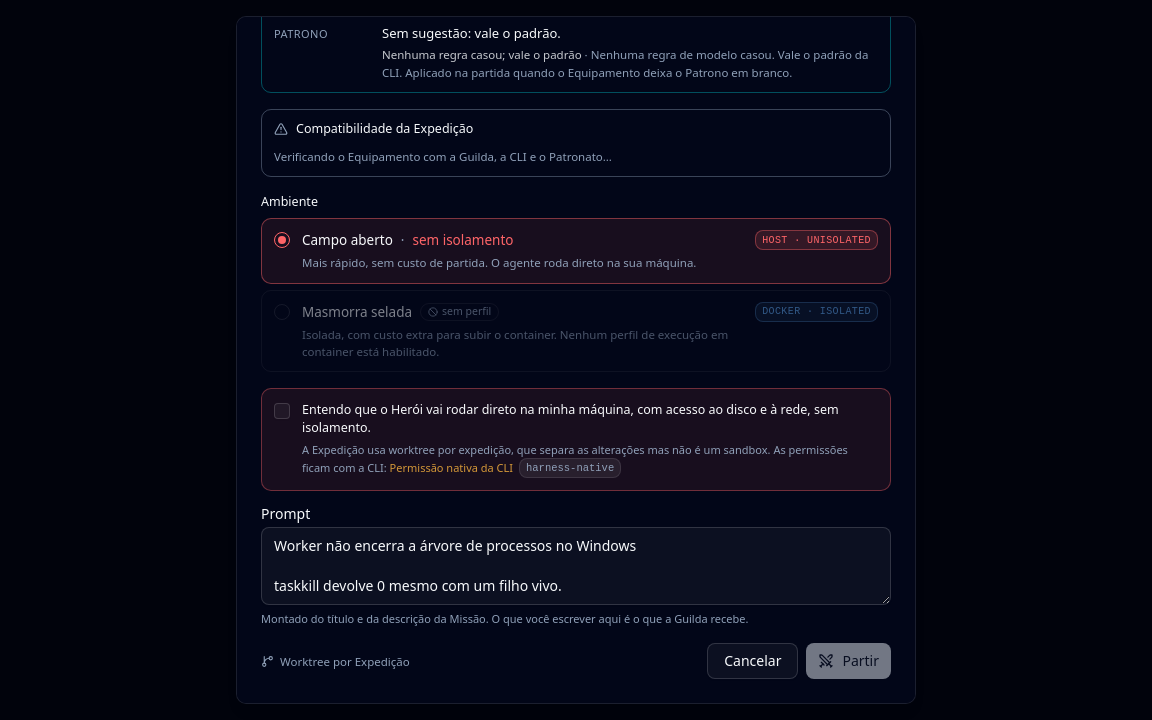
as recusas da autonomia na Nova Expedição › BUDGET_EXCEEDED mostra o Tesouro, o teto e o consumo
The image size is (1152, 720).
(page scrolled)
Click the checkbox named "Aceito executar sem isolamento": (282,411) [274,403,290,419]
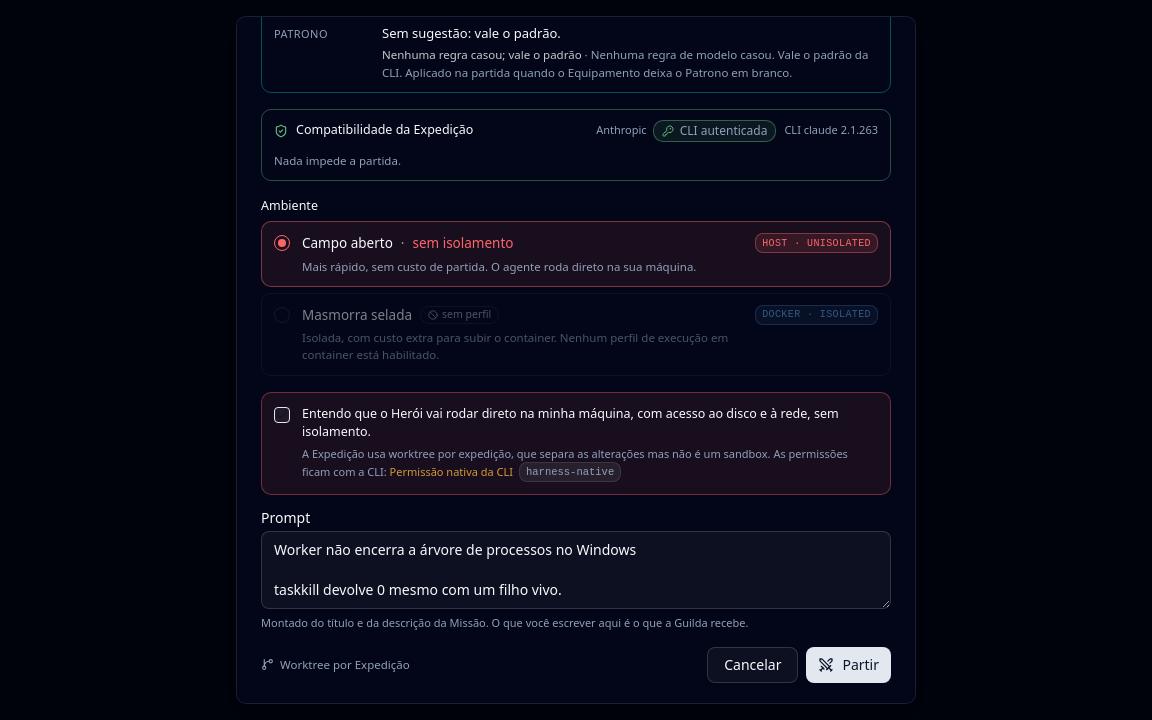
Check: the button "Partir" is enabled
Click the button "Partir": (849,664) [806,646,891,682]
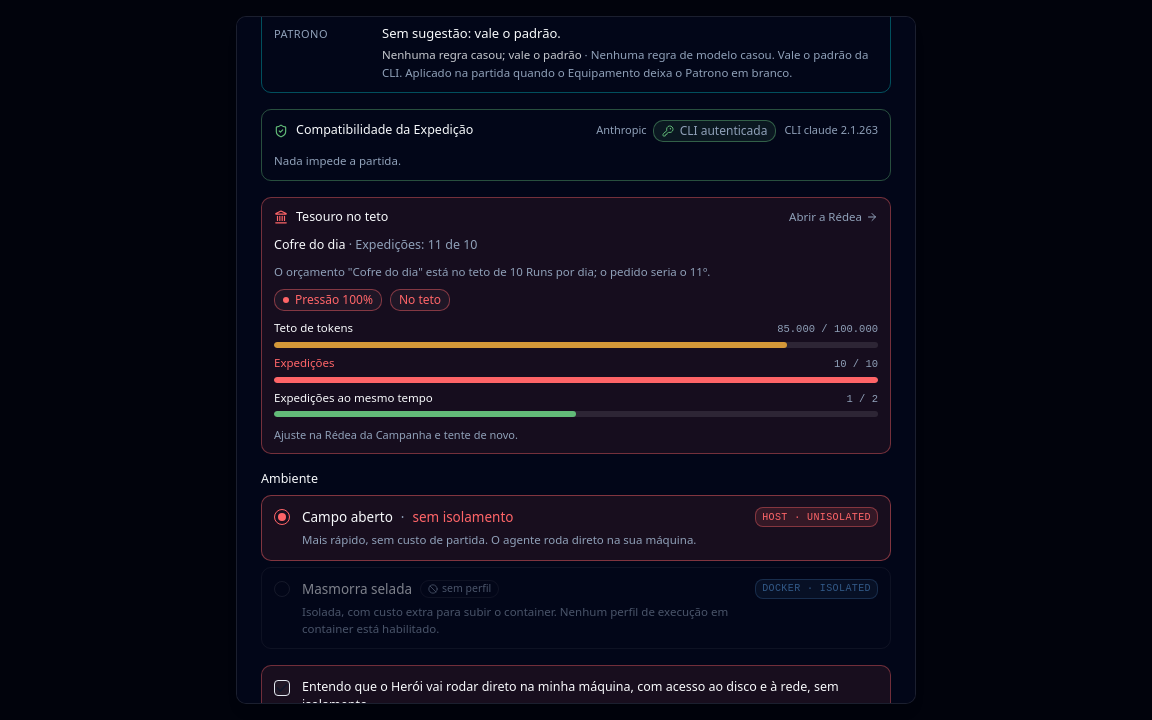
Check: the element that starts with "Tesouro no teto" is shown, box [261,196,891,454]
Check: the element that starts with "Tesouro no teto" shows "Cofre do dia", box [274,236,345,253]
Check: the element that starts with "Tesouro no teto" shows "Expedições", box [274,355,334,370]
